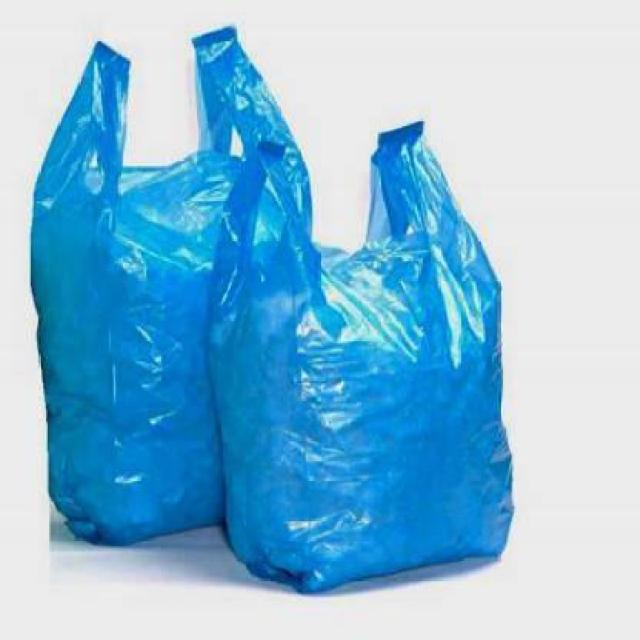plastic bag: (222, 117, 530, 611), (31, 42, 312, 554)
